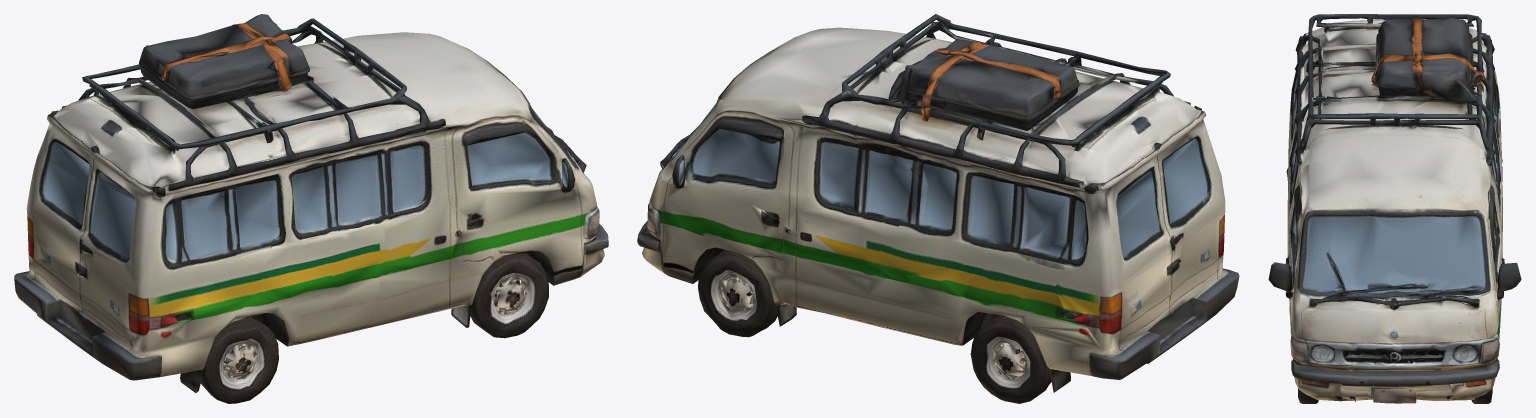
File: tokpa.glb
3 renders of one model, left to right at view 1: azimuth 30°, elevation 25°; view 2: azimuth 150°, elevation 25°; view 3: azimuth 270°, elevation 25°, orthographic. The views are drawn at different scales.
Visible parts, largest first — view 1: tripo_node_0930b12c-4376-4820-b959-d7e9bcef01a2; view 2: tripo_node_0930b12c-4376-4820-b959-d7e9bcef01a2; view 3: tripo_node_0930b12c-4376-4820-b959-d7e9bcef01a2.
Part boxes in pixels (<box>): tripo_node_0930b12c-4376-4820-b959-d7e9bcef01a2: <box>14,14,608,403</box>; tripo_node_0930b12c-4376-4820-b959-d7e9bcef01a2: <box>637,14,1239,403</box>; tripo_node_0930b12c-4376-4820-b959-d7e9bcef01a2: <box>1268,14,1521,403</box>.
Size of the model in its own units: 0.9996 by 0.5681 by 0.4911.
1 material, 1 textured.
